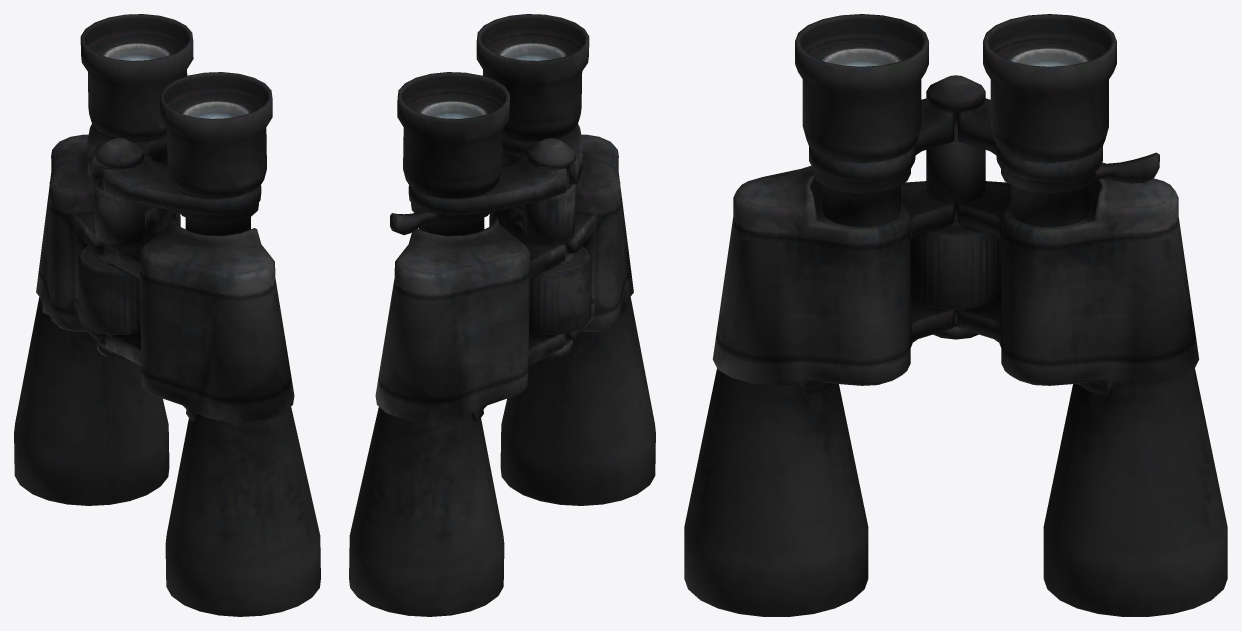
Rendered from Weapon_Binoculars_3P_LOD0.glb.
3 views of the same model, side by side, from view 1: azimuth 30°, elevation 25°; view 2: azimuth 150°, elevation 25°; view 3: azimuth 270°, elevation 25° (orthographic). The views are drawn at different scales.
Parts seen in each view (by area): view 1: Hoodie; view 2: Hoodie; view 3: Hoodie.
Part boxes in pixels (x1=…): Hoodie: x1=14, y1=14, x2=320, y2=616; Hoodie: x1=349, y1=14, x2=655, y2=616; Hoodie: x1=684, y1=14, x2=1227, y2=616.
Bounding box in the file's own units: 0.0686 × 0.2013 × 0.1813.
Materials: 1 (1 with a texture image).
